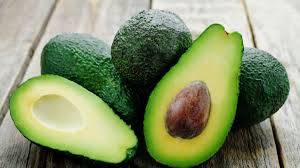aguacate: (128, 21, 247, 165), (35, 26, 123, 108), (112, 8, 189, 88)
